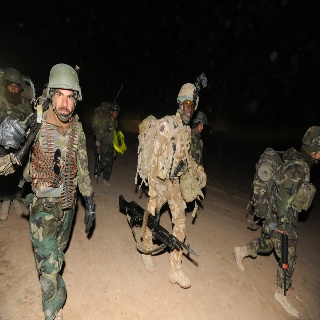rifle: (119, 194, 200, 259)
